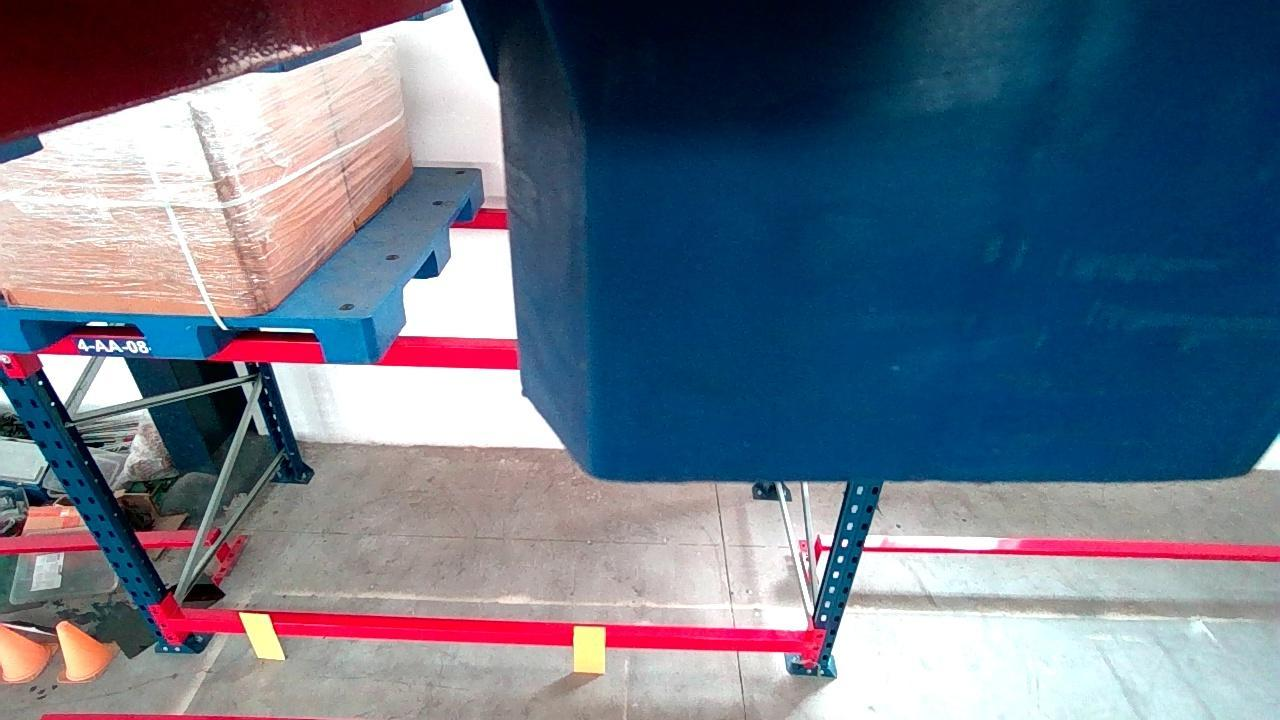h_rack: (170, 621, 806, 654), (44, 336, 516, 369)
orange_strip: (238, 612, 282, 659), (571, 628, 603, 672)
small_pallet: (0, 307, 370, 361)
